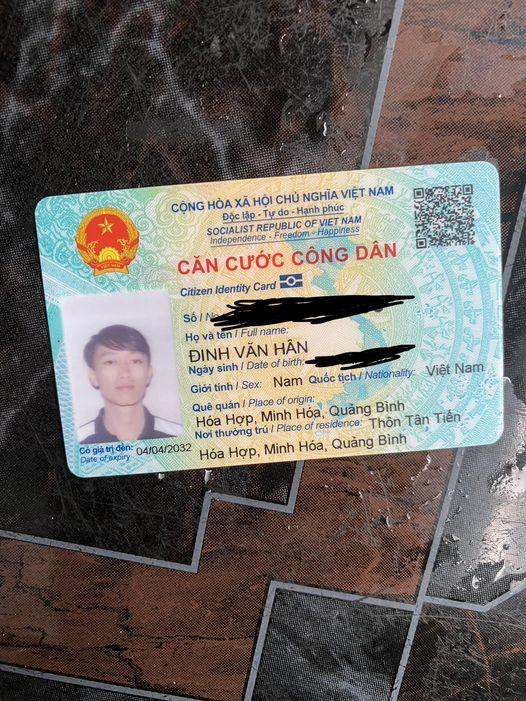bottom_left: (59, 460, 89, 486)
bottom_right: (483, 426, 513, 453)
image_person: (58, 292, 187, 442)
top_left: (21, 190, 58, 217)
top_right: (483, 152, 509, 180)
